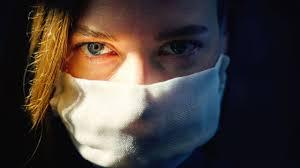mask: (47, 54, 243, 168)
